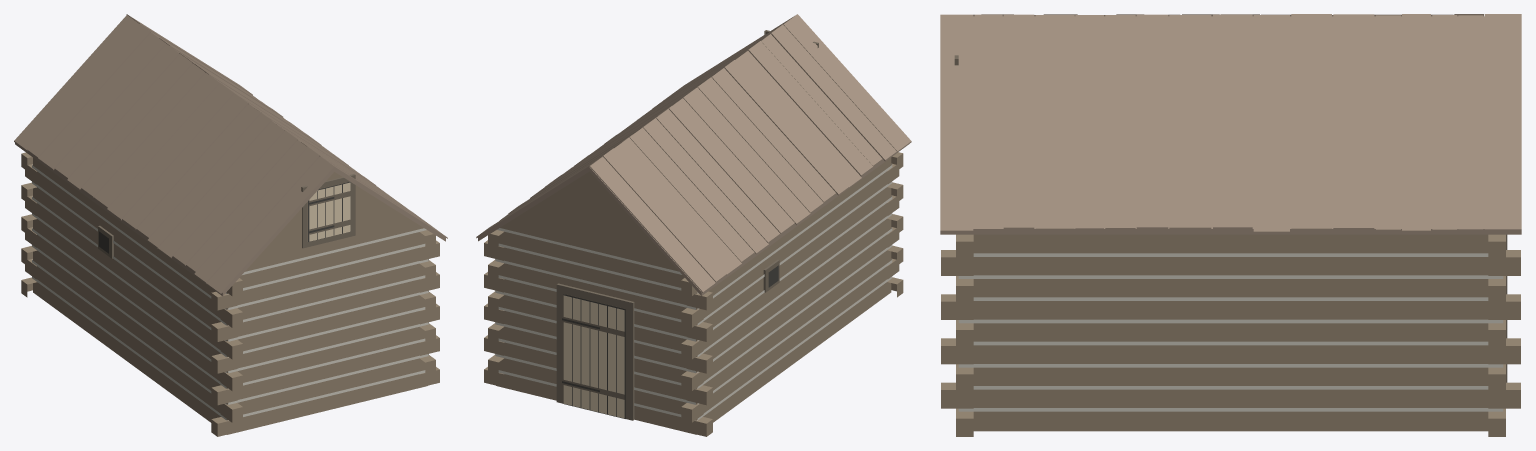
File: recon_1835_blk_washington_clark_a1_12__inferred_1835.glb
The picture shows the model from 3 angles, left to right: view 1: azimuth 30°, elevation 25°; view 2: azimuth 150°, elevation 25°; view 3: azimuth 270°, elevation 25°; orthographic projection. The views are drawn at different scales.
Parts seen in each view (by area): view 1: recon_1835_blk_washington_clark_a1_12__inferred_1835; view 2: recon_1835_blk_washington_clark_a1_12__inferred_1835; view 3: recon_1835_blk_washington_clark_a1_12__inferred_1835.
Part boxes in pixels (left/top/right/bottom): recon_1835_blk_washington_clark_a1_12__inferred_1835: left=14, top=14, right=447, bottom=436; recon_1835_blk_washington_clark_a1_12__inferred_1835: left=476, top=14, right=911, bottom=436; recon_1835_blk_washington_clark_a1_12__inferred_1835: left=940, top=14, right=1521, bottom=436.
Bounding box in the file's own units: 4.99 × 5.22 × 7.88.
